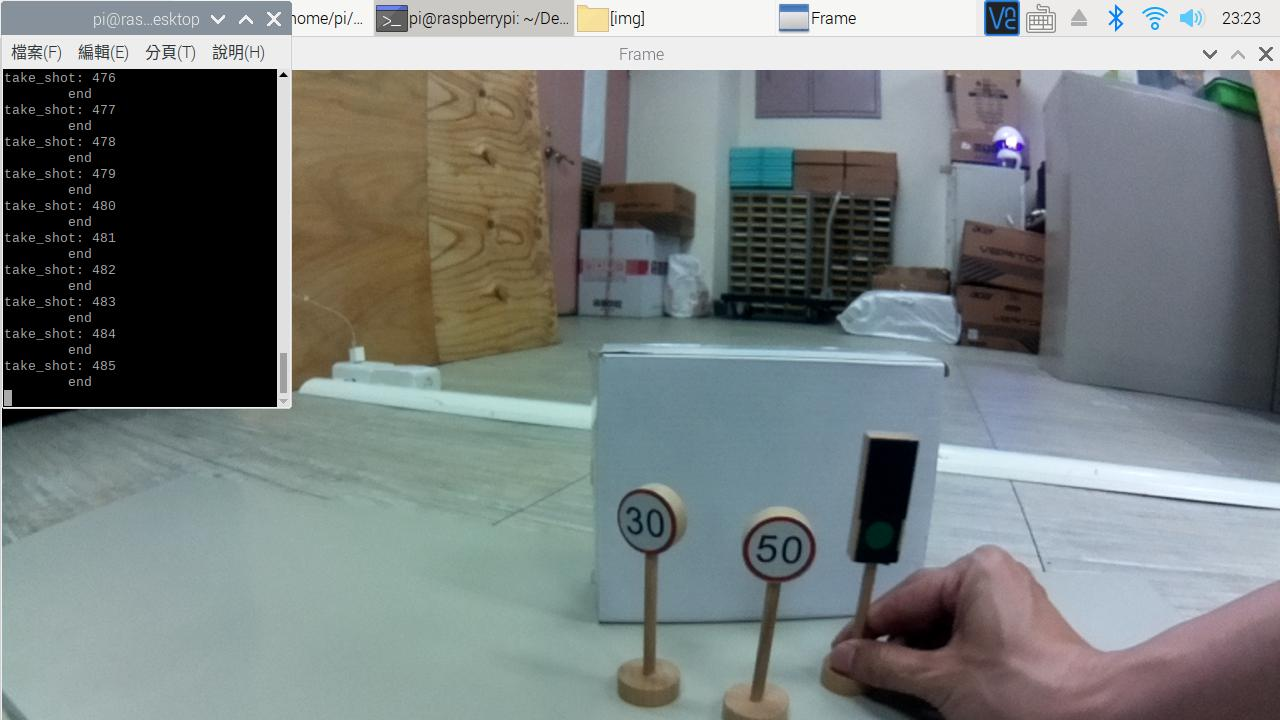Green: (850, 434, 927, 569)
Speed30: (609, 478, 691, 559)
Speed50: (735, 504, 820, 585)
